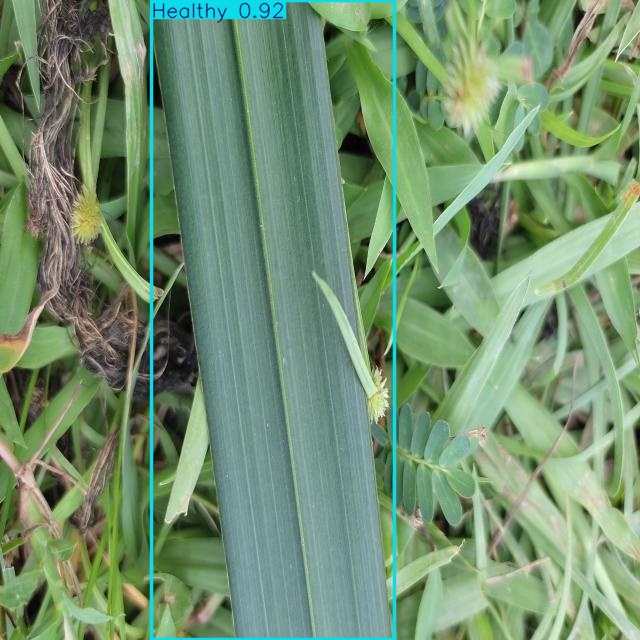Healthy: (152, 0, 395, 640)
